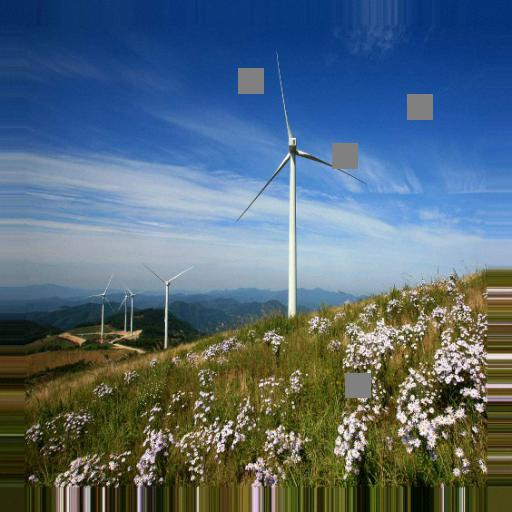wind turbine: (235, 49, 368, 319), (145, 263, 195, 351), (89, 272, 116, 343)
